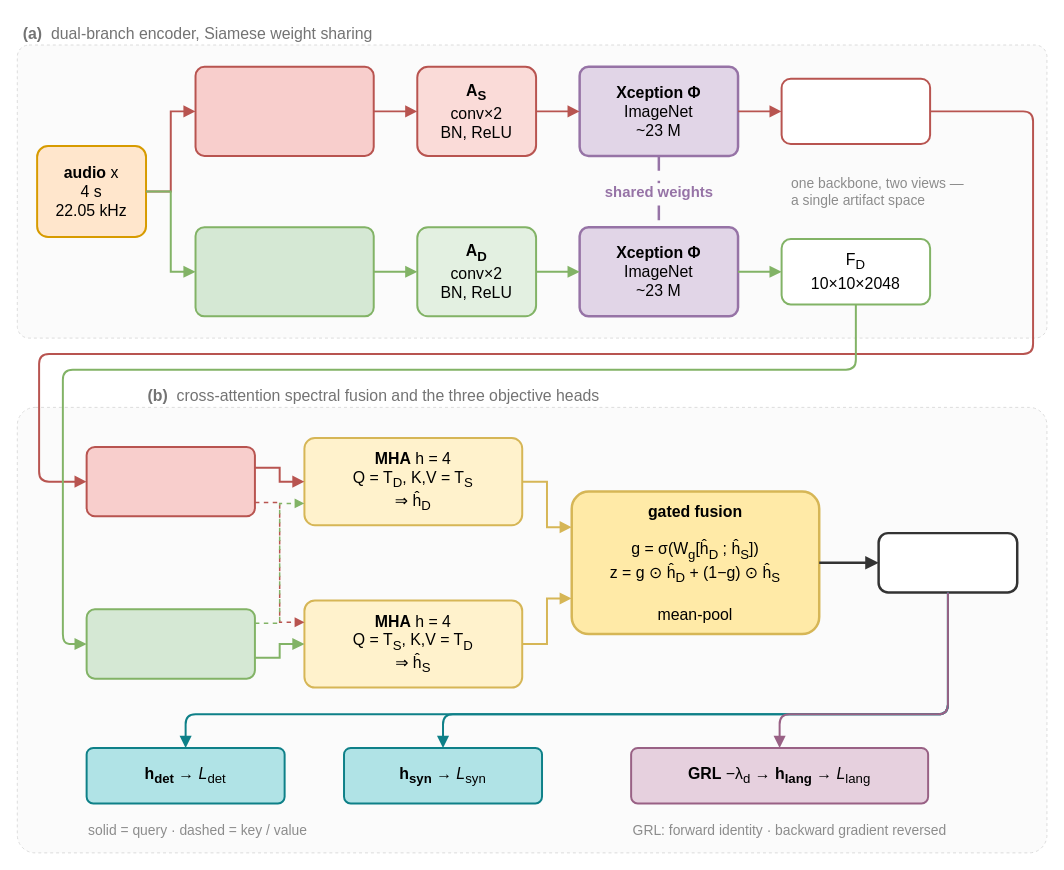
This 1064x870 diagram has some shape labels left out. Here are the shapes that lost their labels. From the top down, the centre of each, then its label:
point (284, 110): Branch-S LFCC 20 + Δ + ΔΔ (60, T)
point (855, 111): F S 10×10×2048
point (284, 271): Branch-D log-Mel 128 + Δ + ΔΔ (3, 128, T)
point (170, 481): tokenise F S 100 × 256
point (947, 562): z ∈ ℝ 256
point (170, 643): tokenise F D 100 × 256
